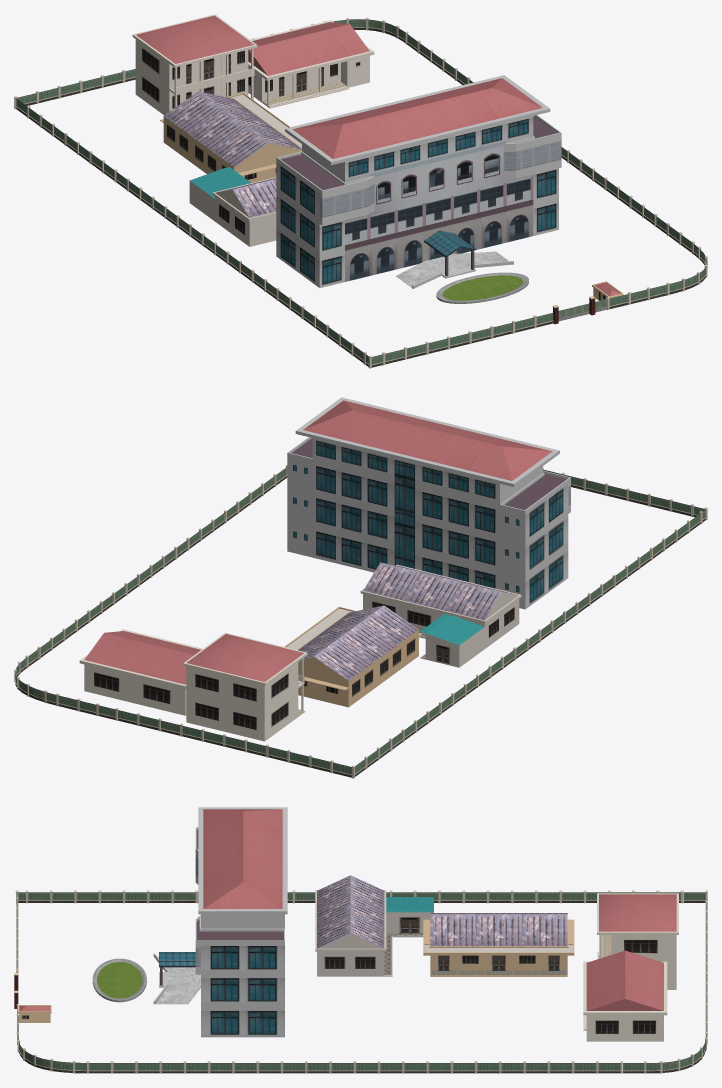
Rendered from Sở Kế Hoạch Và Đầu Tư Bình Phước.glb.
3 views of the same model, one above another, from view 1: azimuth 30°, elevation 25°; view 2: azimuth 150°, elevation 25°; view 3: azimuth 270°, elevation 25° (orthographic). The views are drawn at different scales.
Parts seen in each view (by area): view 1: BPH069_2, BPH069_4, BPH069_Cong rao, BPH069_3, BPH069_1; view 2: BPH069_2, BPH069_3, BPH069_4, BPH069_Cong rao; view 3: BPH069_2, BPH069_3, BPH069_Cong rao, BPH069_4, BPH069_1.
Boxes of the visible parts, left/top/right/bottom form: BPH069_2: left=276, top=75, right=561, bottom=288; BPH069_4: left=132, top=14, right=374, bottom=115; BPH069_Cong rao: left=14, top=17, right=707, bottom=368; BPH069_3: left=160, top=91, right=301, bottom=246; BPH069_1: left=436, top=272, right=528, bottom=303; BPH069_2: left=287, top=397, right=570, bottom=609; BPH069_3: left=284, top=562, right=521, bottom=707; BPH069_4: left=79, top=629, right=307, bottom=741; BPH069_Cong rao: left=14, top=465, right=707, bottom=778; BPH069_2: left=153, top=807, right=287, bottom=1037; BPH069_3: left=315, top=875, right=574, bottom=976; BPH069_Cong rao: left=14, top=890, right=707, bottom=1073; BPH069_4: left=583, top=893, right=678, bottom=1041; BPH069_1: left=92, top=958, right=146, bottom=1002.
Size of the model in its own units: 49.85 by 18.08 by 85.13.
Materials: 4 (4 with a texture image).
